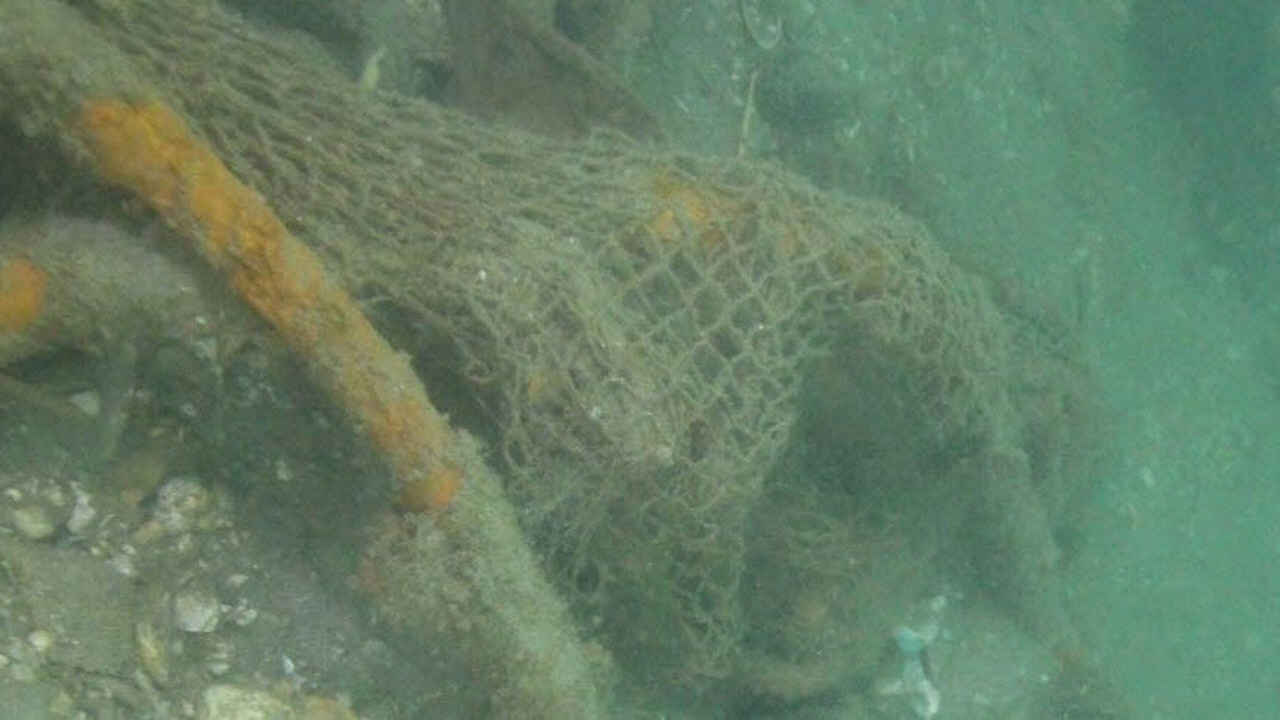fish net: (99, 1, 1012, 679)
